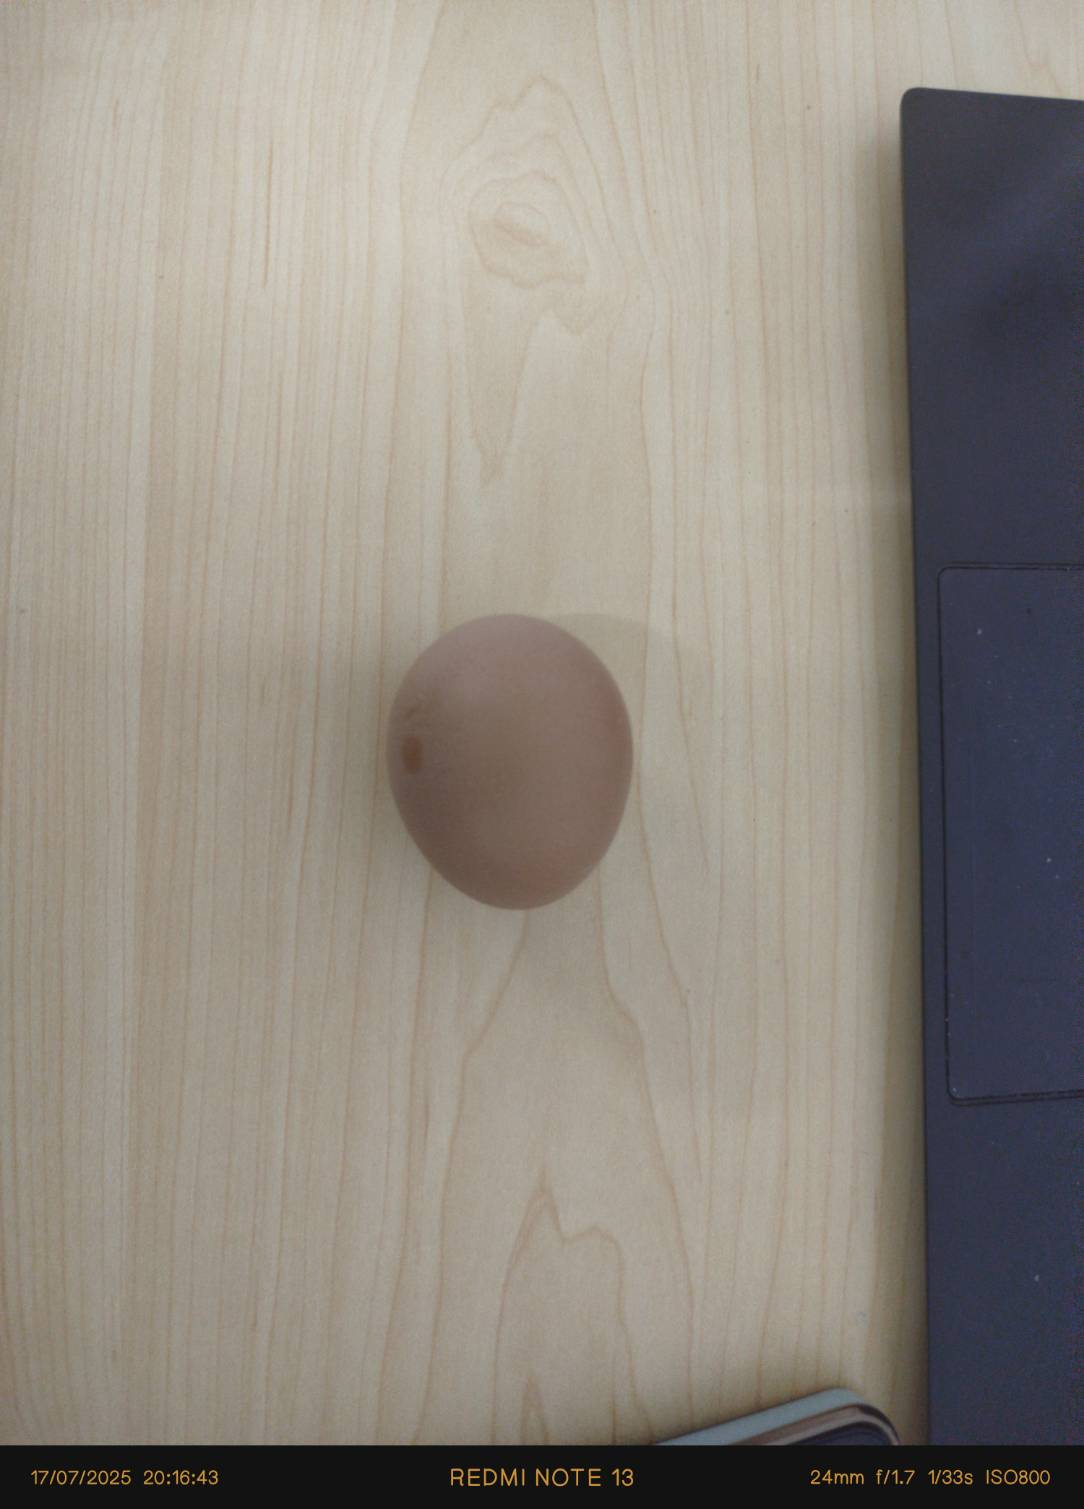egg: (379, 599, 645, 907)
